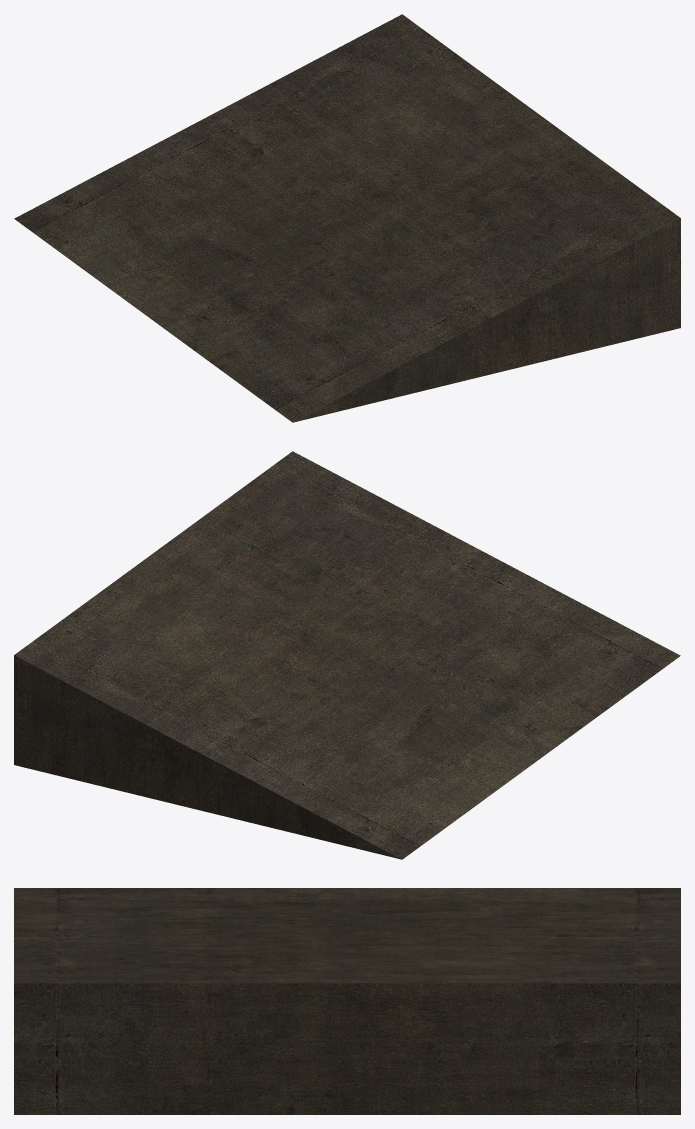
File: ramp_platform_wide_mx_1.glb
The picture shows the model from 3 angles, top to bottom: view 1: azimuth 30°, elevation 25°; view 2: azimuth 150°, elevation 25°; view 3: azimuth 270°, elevation 25°; orthographic projection. The views are drawn at different scales.
Visible parts, largest first — view 1: ramp_platform_wide_mx_1; view 2: ramp_platform_wide_mx_1; view 3: ramp_platform_wide_mx_1.
Boxes of the visible parts, left/top/right/bottom form: ramp_platform_wide_mx_1: left=14, top=14, right=680, bottom=422; ramp_platform_wide_mx_1: left=14, top=451, right=680, bottom=859; ramp_platform_wide_mx_1: left=14, top=888, right=680, bottom=1114.
Size of the model in its own units: 3.7 by 1 by 4.6.
1 material, 1 textured.
